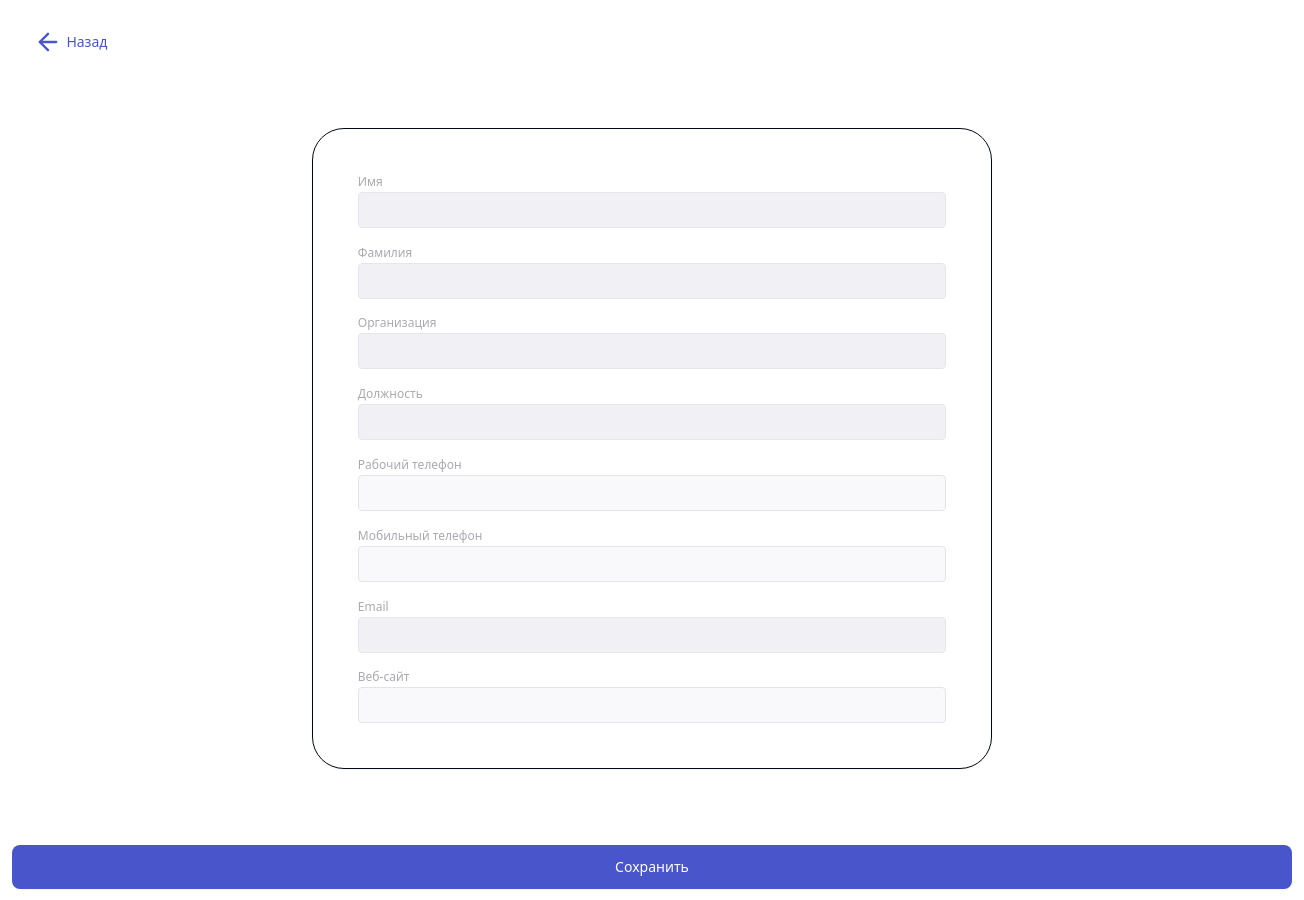
Test: WorkerForm › показывает ошибки валидации при отправке пустой формы
The width and height of the screenshot is (1304, 900).
Click the button "Сохранить": (652, 867) x1=12 y1=845 x2=1292 y2=889
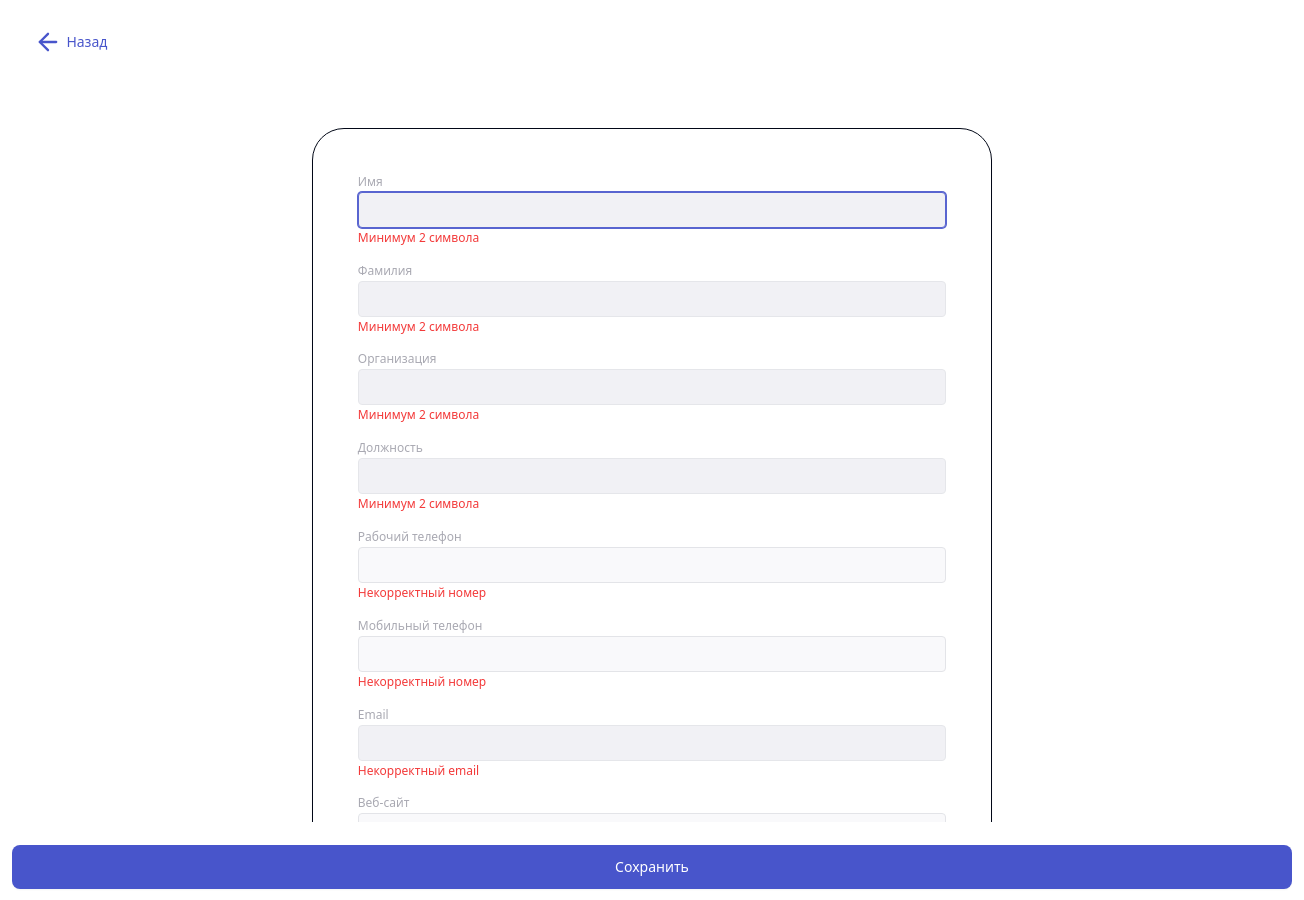
Check: the text "Минимум 2 символа" below "Имя" is shown, box x1=358 y1=229 x2=479 y2=246
